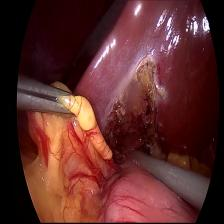Grasper: (12, 76, 79, 122)
Irrigator: (130, 145, 150, 176)
